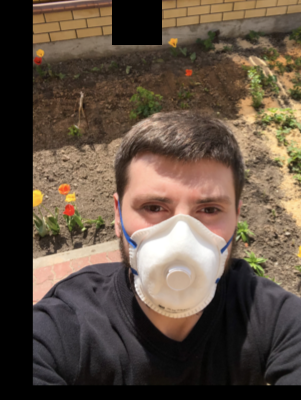with_mask: (123, 173, 233, 319)
